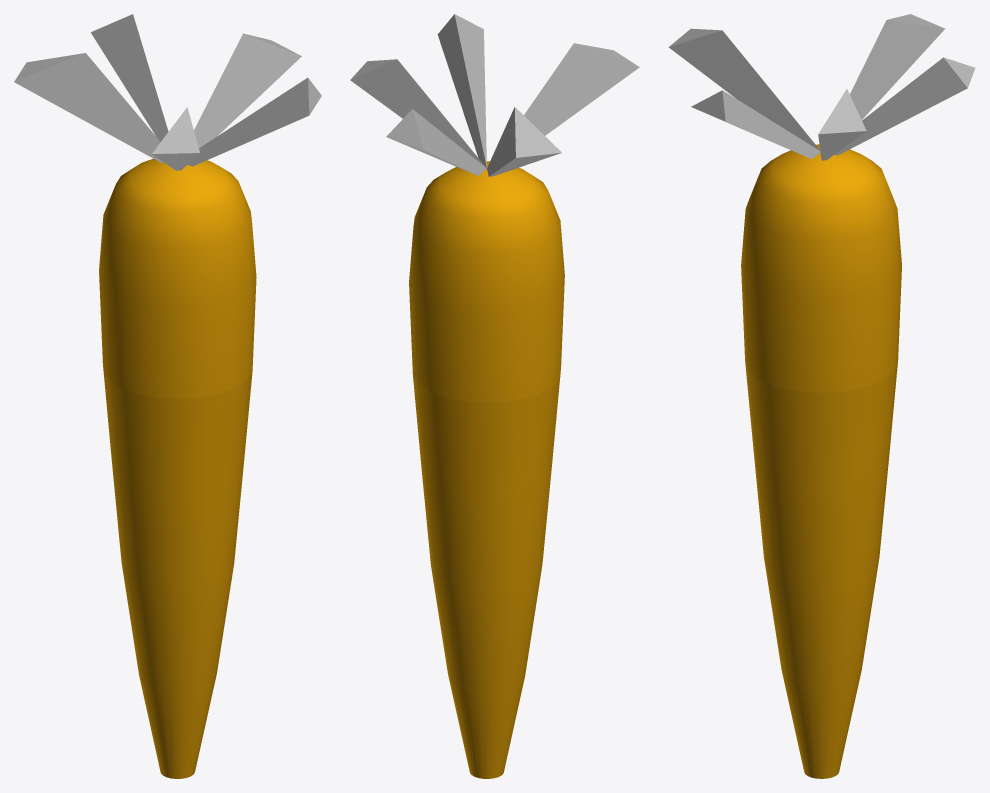
The model's file is Carrot_Crop_Model.fbx.
3 renders of one model, left to right at view 1: azimuth 30°, elevation 25°; view 2: azimuth 150°, elevation 25°; view 3: azimuth 270°, elevation 25°, orthographic. The views are drawn at different scales.
Visible parts, largest first — view 1: Carrot_model; view 2: Carrot_model; view 3: Carrot_model.
Boxes of the visible parts, box(x1,y1,x2,y2) form: Carrot_model: box(14, 14, 321, 778); Carrot_model: box(350, 14, 639, 778); Carrot_model: box(668, 14, 975, 778).
Size of the model in its own units: 0.1242 by 0.3492 by 0.134.
